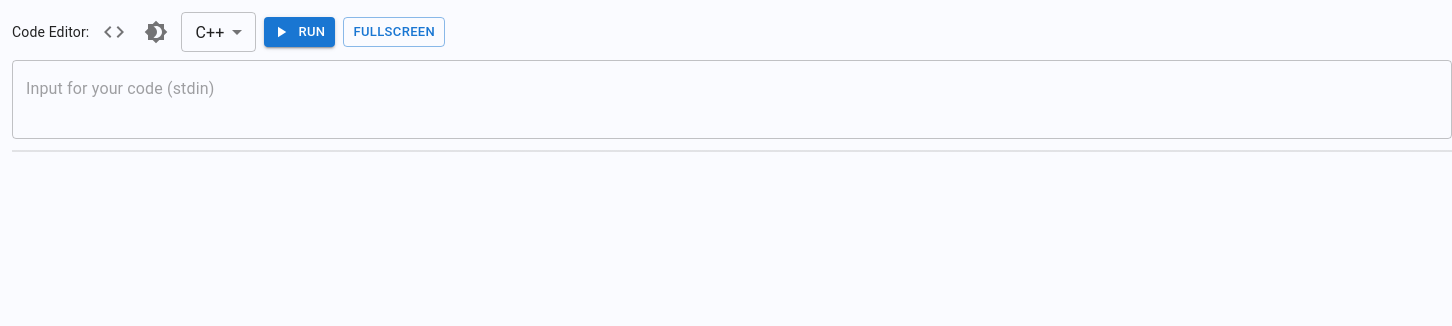
Test: CodeEditorField run failures › uses the server's message for other failures
Click the button "Run".
click(300, 32)  # box x1=264 y1=17 x2=335 y2=47
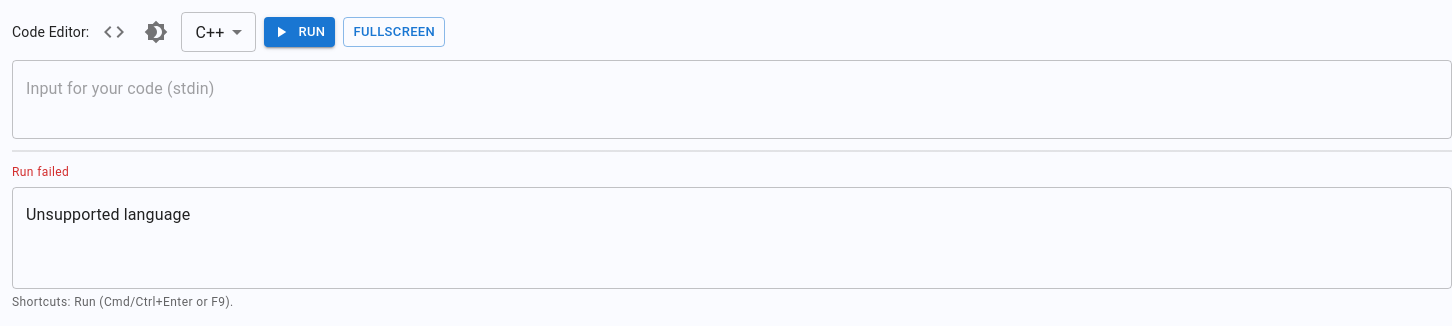
Check: the text box showing "Unsupported language" is shown, box x1=26 y1=203 x2=1438 y2=272
